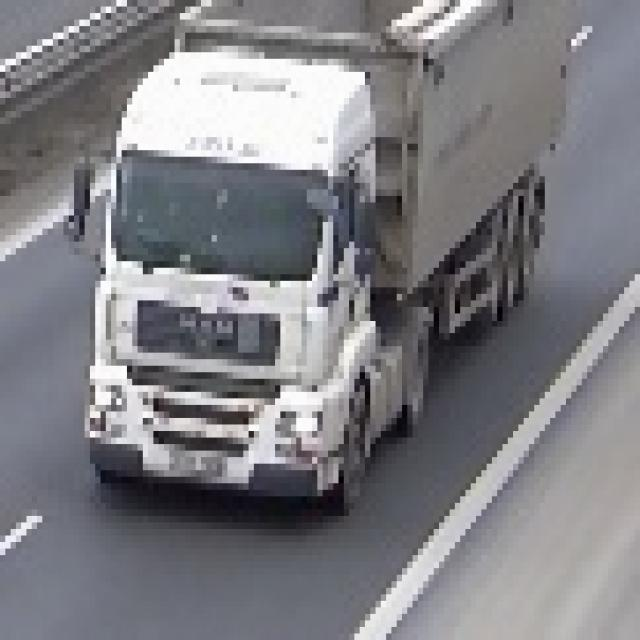TRUCK: (95, 0, 423, 503)
